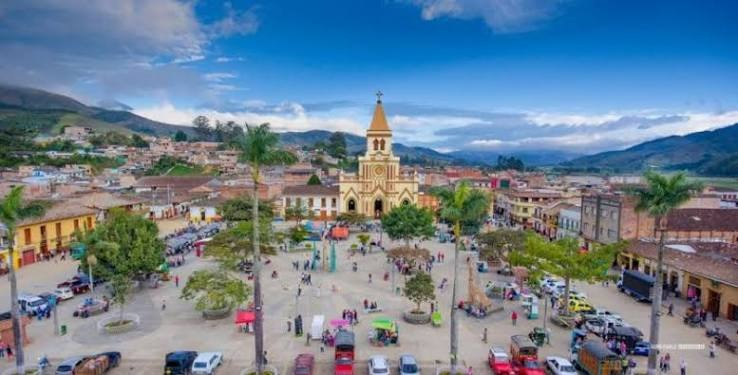car: (44, 224, 687, 375), (167, 351, 220, 374)
